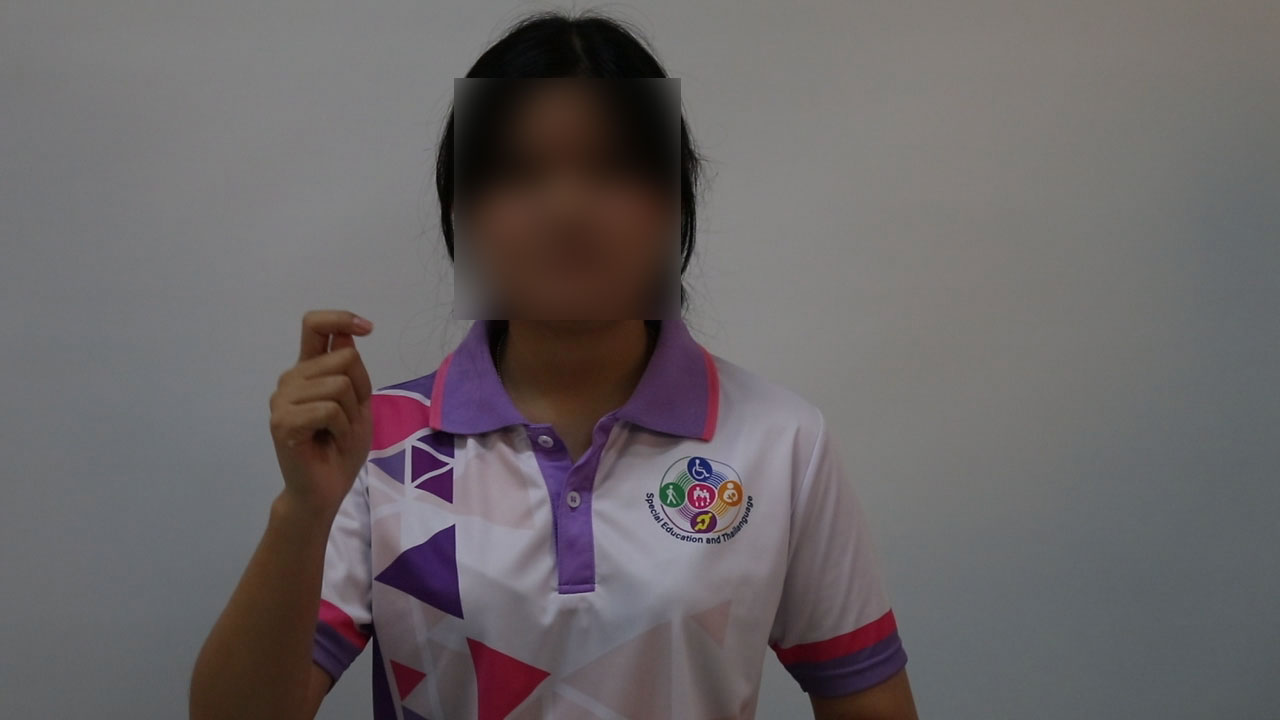or: (251, 307, 393, 526)
